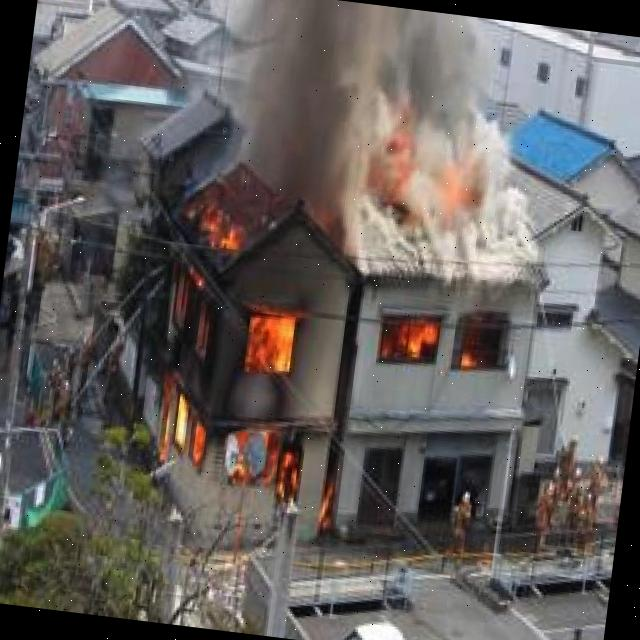fire: (133, 179, 356, 512), (387, 303, 506, 372)
